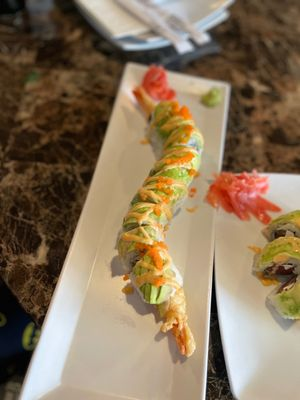soup: (251, 207, 300, 323)
